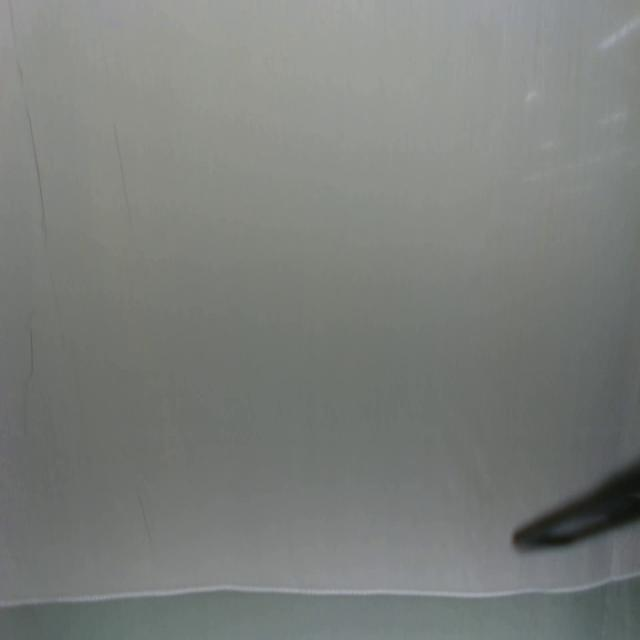crease: (7, 0, 51, 257), (111, 119, 131, 209), (133, 484, 153, 550), (28, 323, 36, 377)
